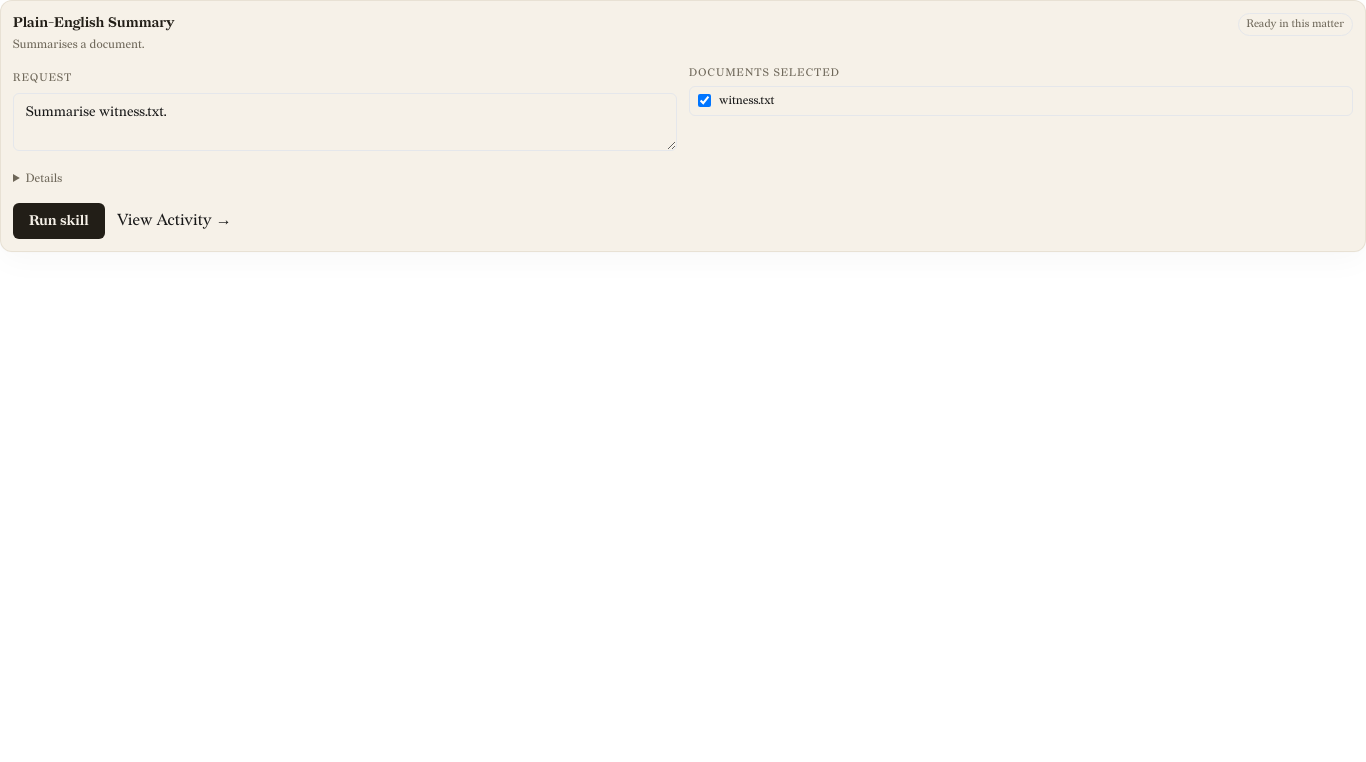
Test: GenericSkillRunner › renders every artifact id returned by a native-style result
This screenshot has width=1366, height=762.
Click the button with test id "generic-run-demo.guided-skill-summarise" at (59, 221), box top-left (13, 203), bottom-right (105, 239)
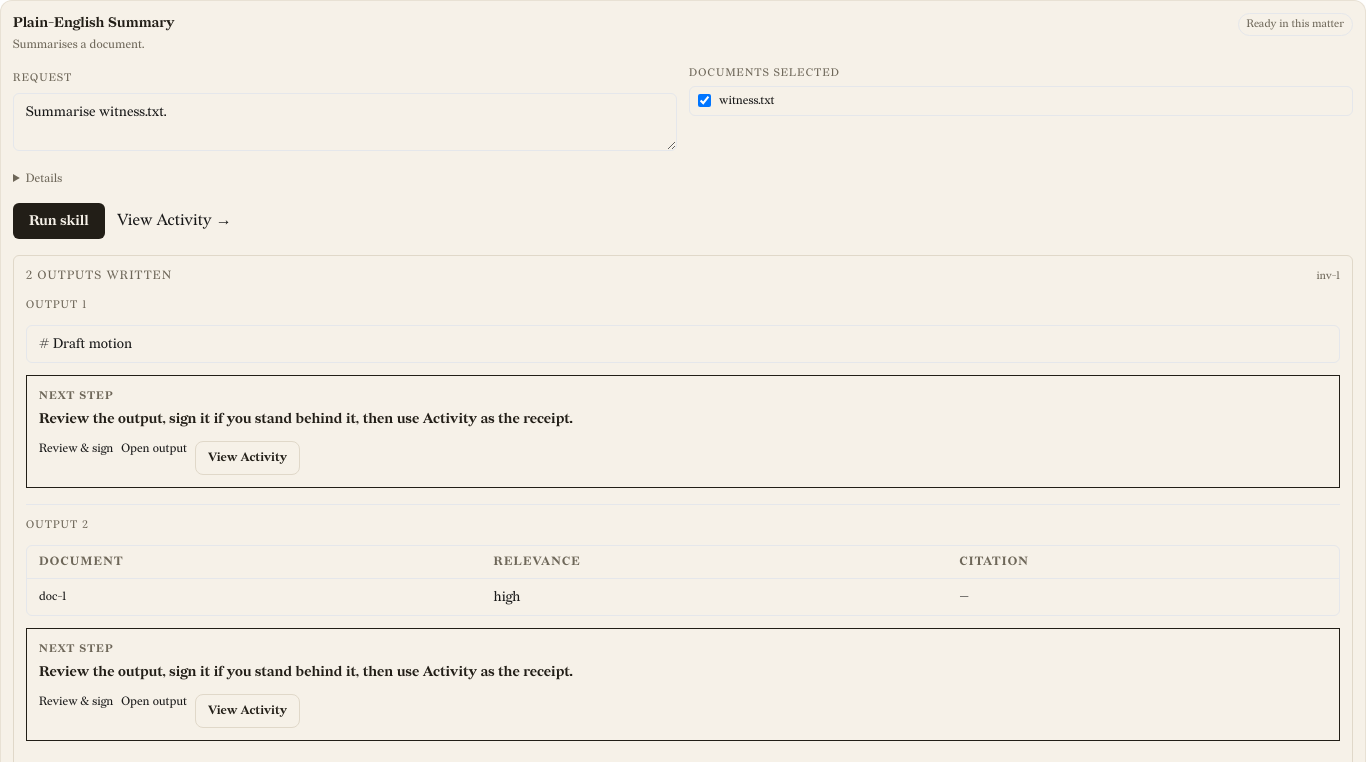
Check: the text "2 outputs written" is shown, box top-left (26, 268), bottom-right (172, 284)
Check: the element with test id "motion-draft-view" is shown, box top-left (26, 325), bottom-right (1340, 363)
Check: the element with test id "evidence-list-view" is shown, box top-left (26, 545), bottom-right (1340, 616)
